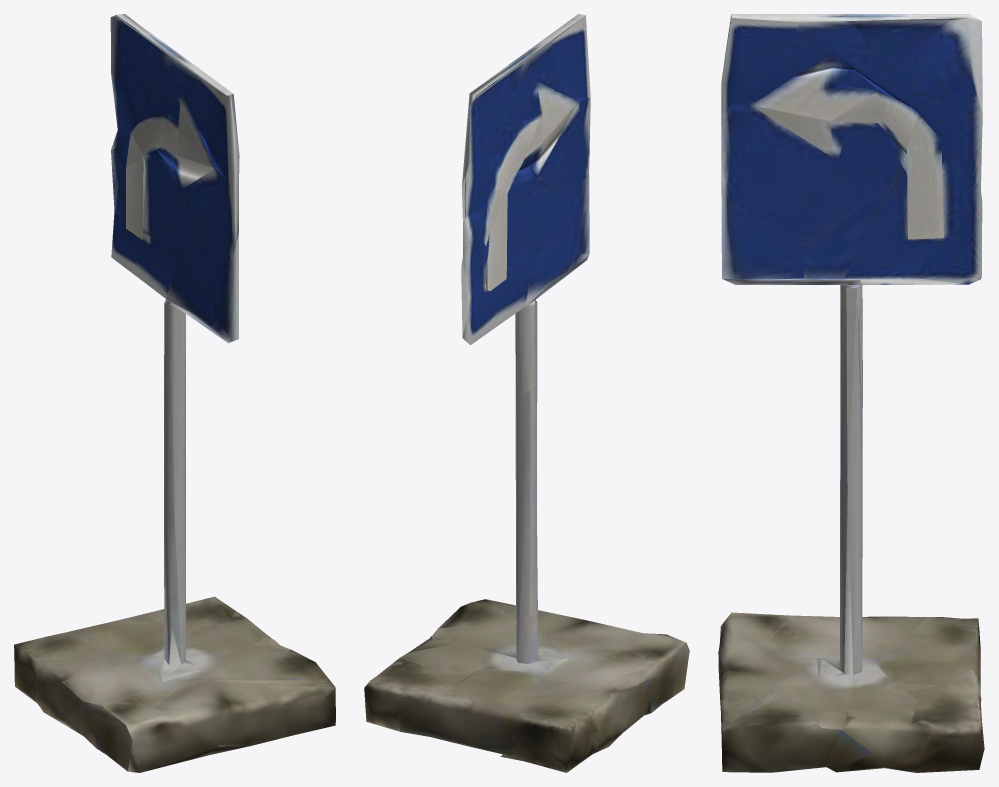
The model's file is rambu_kiri_lod2.glb.
3 views of the same model, side by side, from view 1: azimuth 30°, elevation 25°; view 2: azimuth 150°, elevation 25°; view 3: azimuth 270°, elevation 25° (orthographic). The views are drawn at different scales.
Visible parts, largest first — view 1: tripo_node_52df4f7a; view 2: tripo_node_52df4f7a; view 3: tripo_node_52df4f7a.
Part boxes in pixels (x1,y1,x2,y2): tripo_node_52df4f7a: [14, 14, 335, 772]; tripo_node_52df4f7a: [364, 14, 689, 772]; tripo_node_52df4f7a: [718, 14, 984, 772].
Size of the model in its own units: 34.15 by 99.91 by 34.26.
Materials: 1 (1 with a texture image).
